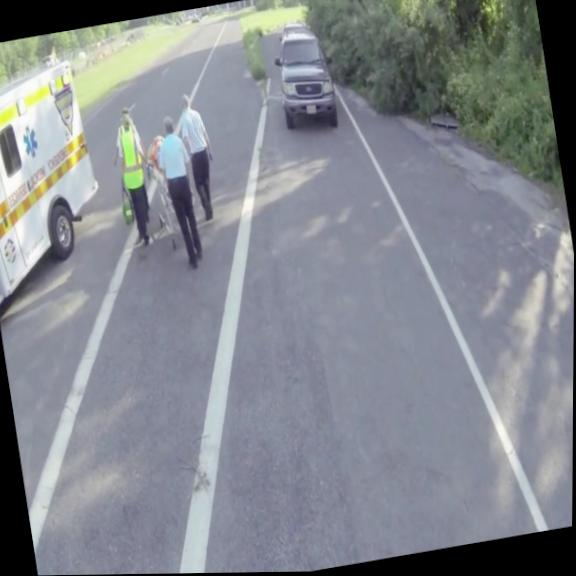safety_vest: (116, 130, 146, 189)
